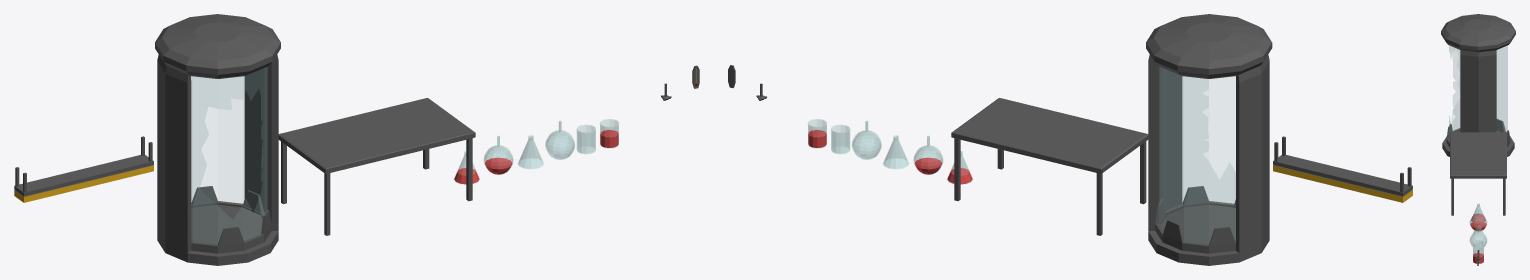
File: Lab Props.fbx
3 renders of one model, left to right at view 1: azimuth 30°, elevation 25°; view 2: azimuth 150°, elevation 25°; view 3: azimuth 270°, elevation 25°, orthographic. The views are drawn at different scales.
Parts seen in each view (by area): view 1: Chamber, Metal Table, Lab Light, RoundFlask1, RoundFlask2, Flask3, Flask2, Flash1; view 2: Chamber, Metal Table, Lab Light, RoundFlask1, RoundFlask2, Flask3, Flask2, Flash1; view 3: Chamber, Metal Table, RoundFlask2, RoundFlask1, Flask2, Flask4, Flash1, Flask3.
Part boxes in pixels (x1,y1,x2,y2): Chamber: (155, 14, 280, 265); Metal Table: (278, 98, 475, 235); Lab Light: (14, 136, 153, 202); RoundFlask1: (545, 121, 574, 159); RoundFlask2: (484, 136, 513, 174); Flask3: (518, 135, 543, 169); Flask2: (600, 119, 619, 148); Flash1: (576, 125, 595, 153); Chamber: (1146, 14, 1272, 265); Metal Table: (951, 98, 1148, 235); Lab Light: (1273, 136, 1412, 202); RoundFlask1: (852, 121, 881, 159); RoundFlask2: (913, 136, 943, 174); Flask3: (883, 135, 909, 169); Flask2: (807, 119, 826, 148); Flash1: (831, 125, 850, 153); Chamber: (1441, 14, 1515, 156); Metal Table: (1450, 132, 1506, 215); RoundFlask2: (1470, 208, 1486, 230); RoundFlask1: (1470, 226, 1486, 246); Flask2: (1473, 246, 1483, 263); Flask4: (1471, 203, 1485, 221); Flash1: (1473, 240, 1483, 250); Flask3: (1473, 222, 1483, 233).
Size of the model in its own units: 10.46 by 3.06 by 1.68.
